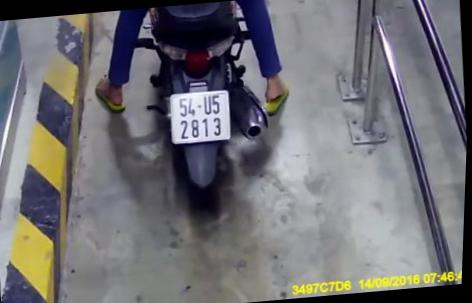LP: (167, 86, 236, 145)
